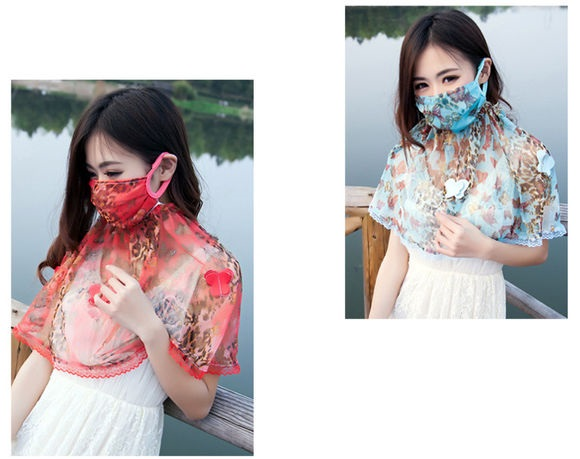face_mask: (86, 132, 151, 227), (414, 45, 480, 130)
